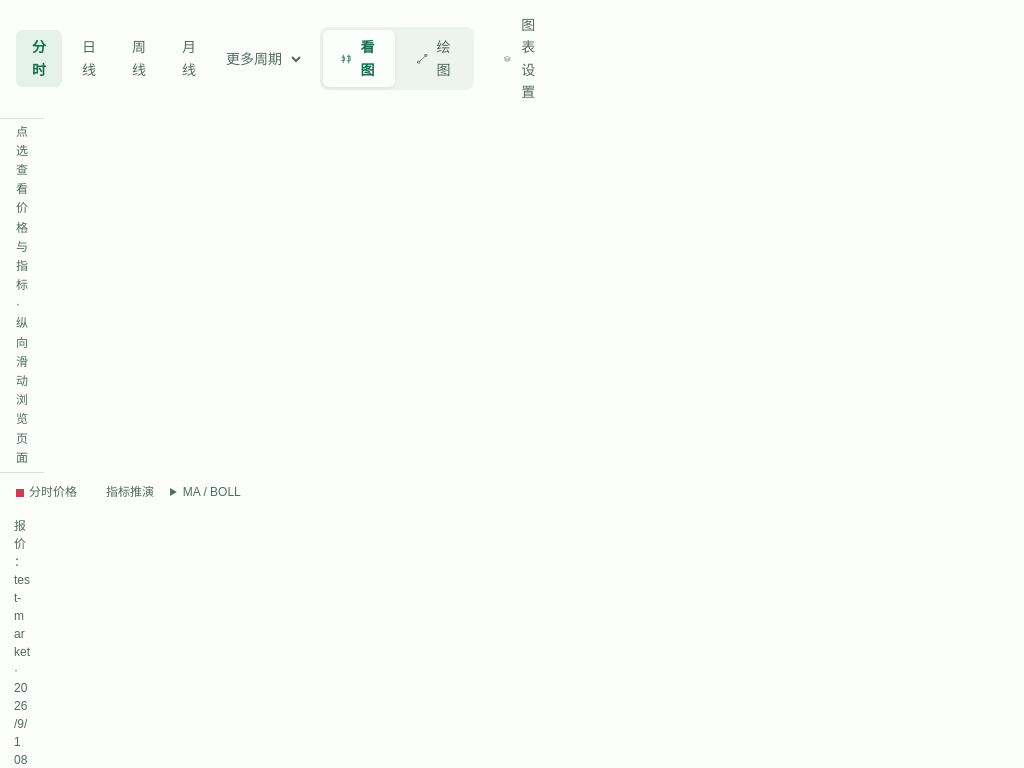
Test: ChartWorkspace › ignores legacy cached index averages so intraday prices retain a useful vertical scale
Click the button "图表设置" at (522, 59), box [486,8,558,110]
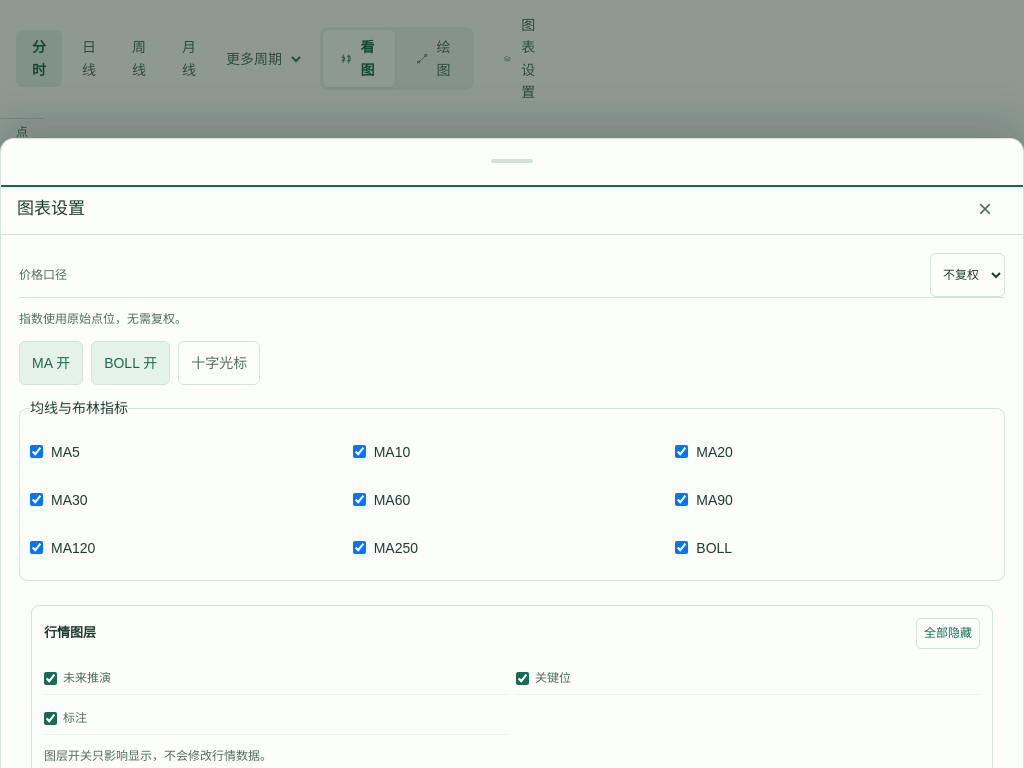
Result: the dropdown named "价格复权方式" is disabled at [930,253,1005,297]
Result: the text "指数使用原始点位，无需复权。" is shown at [19,312,187,326]
